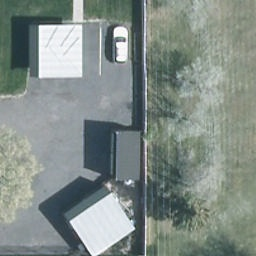car: (113, 27, 130, 65)
